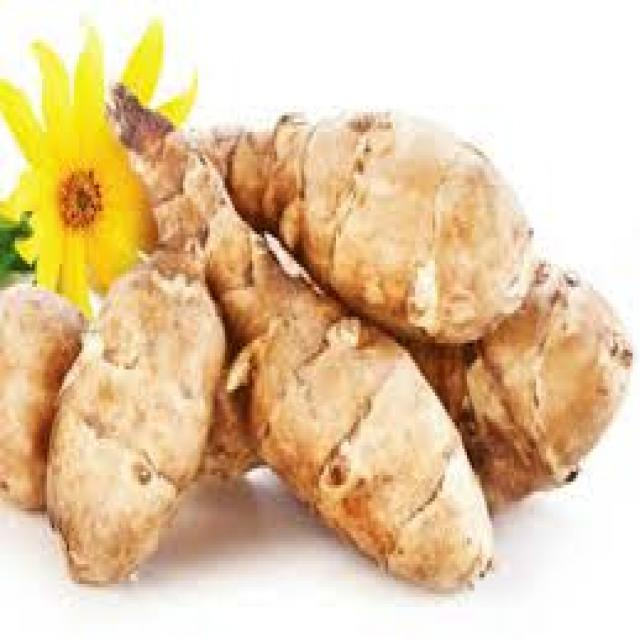organic waste: (109, 79, 492, 594), (104, 79, 531, 350), (42, 158, 225, 584), (398, 258, 630, 512), (0, 20, 195, 316), (0, 280, 84, 508), (198, 350, 267, 475)
